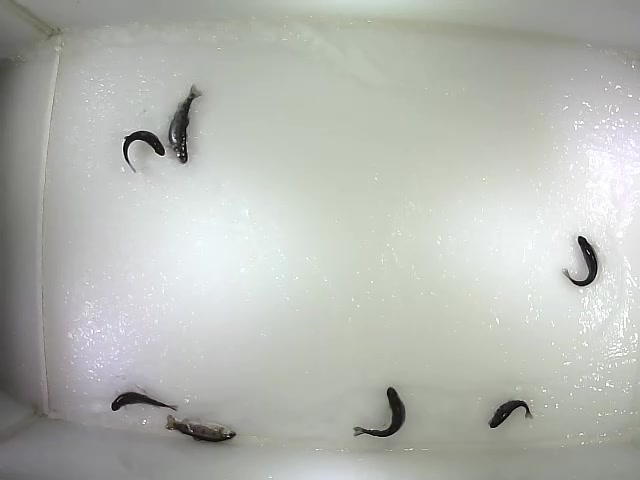fish: (168, 83, 205, 165), (352, 385, 407, 439), (164, 414, 238, 444), (122, 130, 167, 175), (561, 235, 599, 287), (110, 391, 180, 413), (487, 399, 534, 430)
